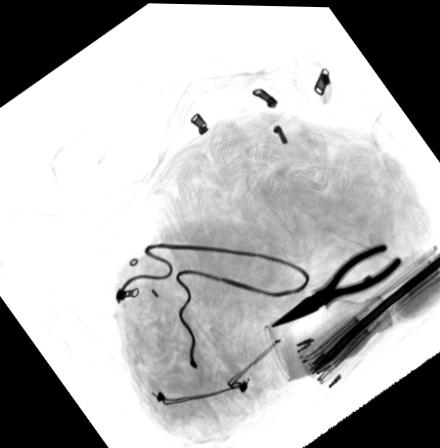Pliers: (271, 238, 405, 327)
